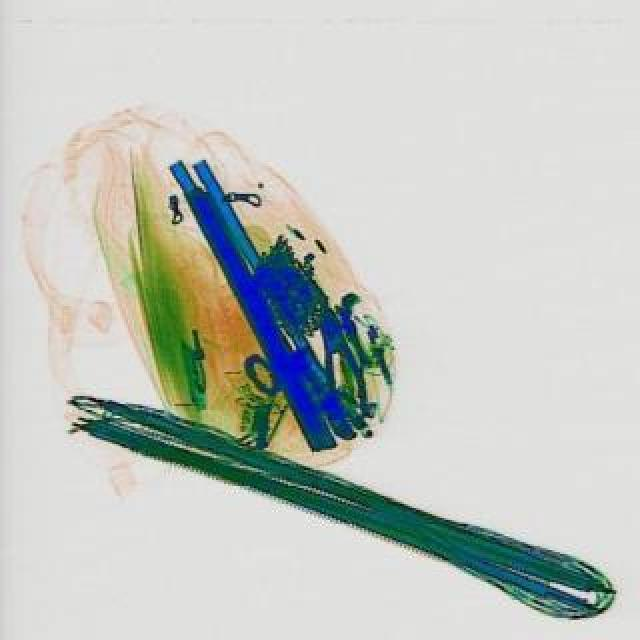wrench: (304, 300, 372, 424)
